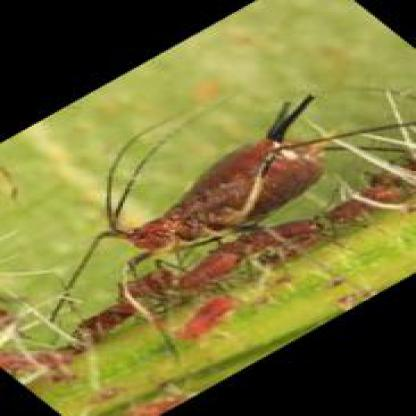uroleucon compositae: (49, 98, 414, 326)
